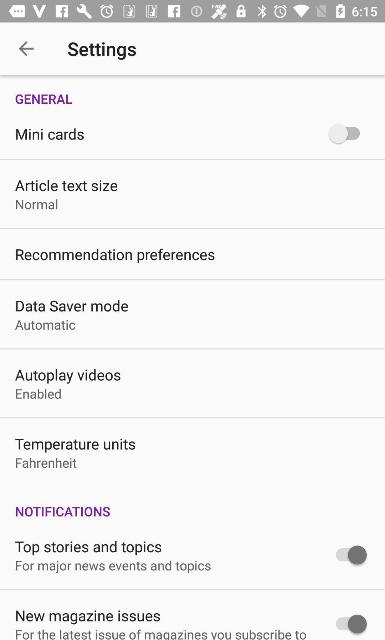Icon: (18, 42, 34, 56)
List: (0, 76, 385, 639)
Switch: (336, 614, 368, 634), (328, 125, 359, 144), (336, 546, 368, 564)
Text: (15, 628, 306, 640), (16, 248, 214, 264), (15, 540, 161, 556), (16, 560, 210, 572), (16, 610, 160, 624), (15, 438, 135, 452), (16, 368, 120, 384), (16, 300, 128, 312), (15, 180, 117, 192), (68, 42, 136, 60), (16, 507, 110, 517), (16, 128, 84, 140), (16, 458, 76, 468), (15, 320, 75, 330), (16, 94, 72, 104), (17, 388, 62, 399), (16, 199, 58, 209)
Toolbar: (0, 23, 384, 75)
UpperTaskBar: (0, 0, 384, 22)
